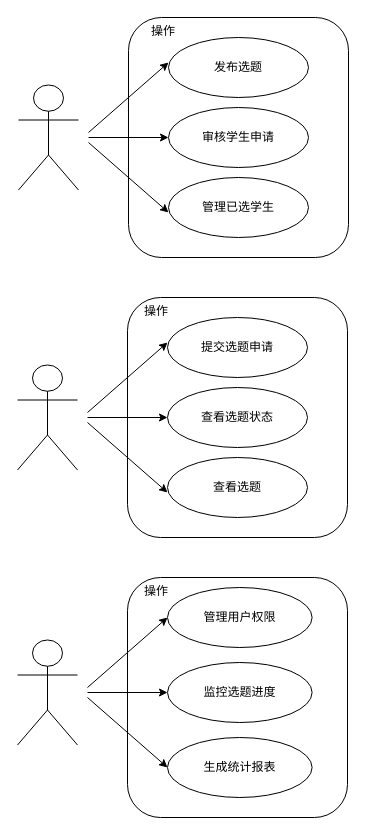
This 366x835 diagram has some shape labels left out. Here are the shapes that lost their labels. From the top down, the centre of each, then its label:
point 48,137: 老师
point 47,417: 学生
point 47,692: 管理员
